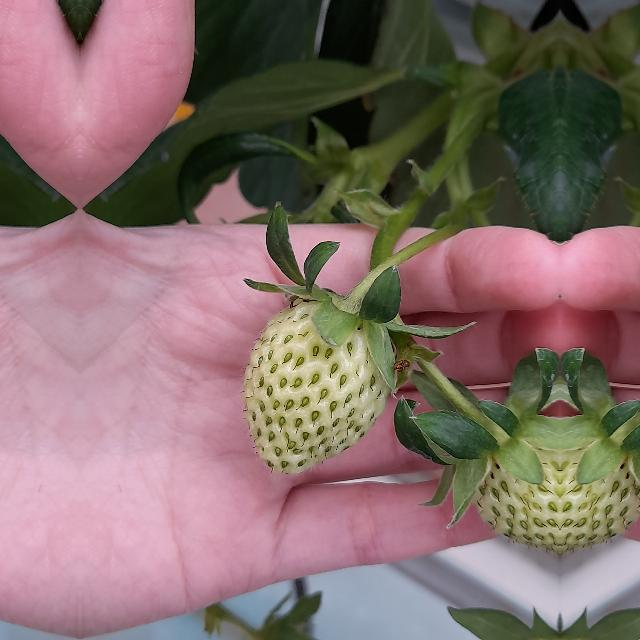Health_25: (242, 297, 390, 473), (459, 408, 559, 556), (561, 408, 640, 555)
